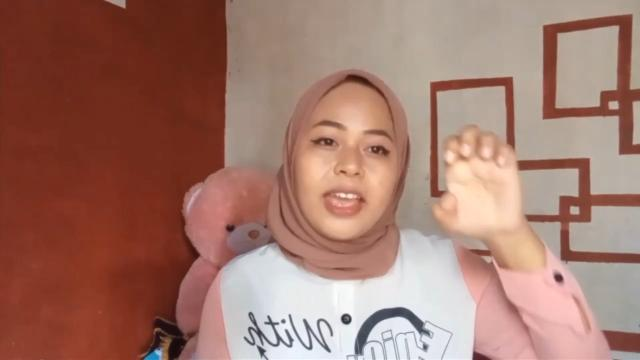E: (430, 121, 524, 241)
